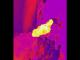Foc: (27, 18, 56, 44)
